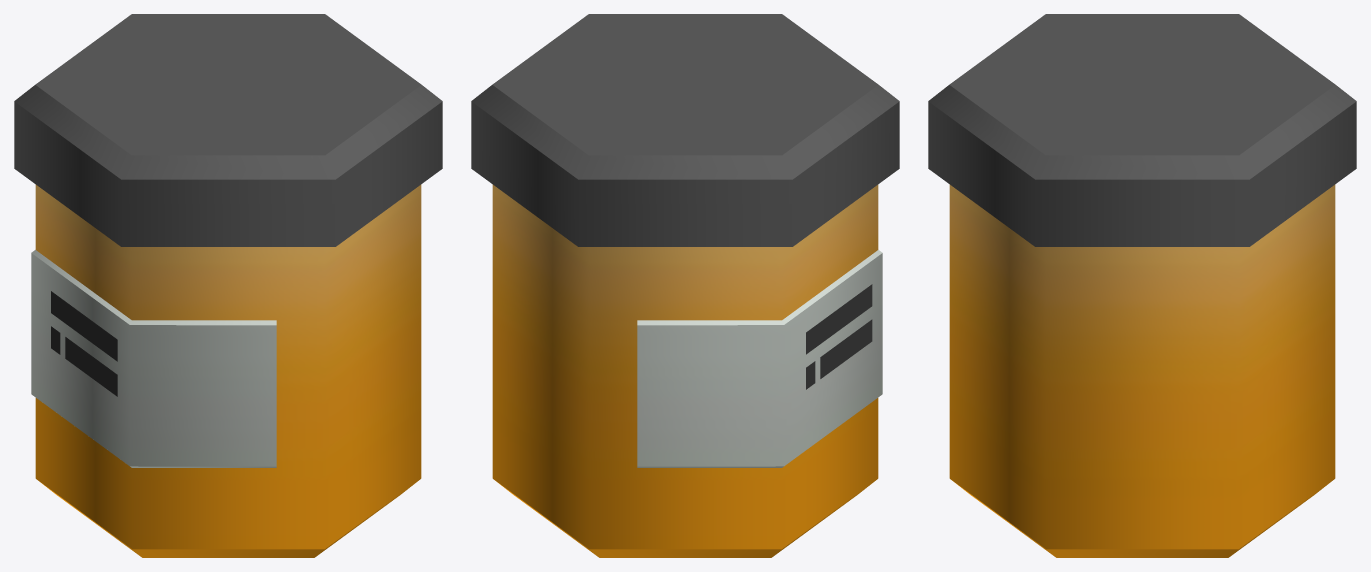
File: Jar_1_G.fbx
3 views of the same model, side by side, from view 1: azimuth 30°, elevation 25°; view 2: azimuth 150°, elevation 25°; view 3: azimuth 270°, elevation 25° (orthographic).
Visible parts, largest first — view 1: Jar_1_G; view 2: Jar_1_G; view 3: Jar_1_G.
Boxes of the visible parts, <box> form: Jar_1_G: <box>14,14,442,557</box>; Jar_1_G: <box>471,14,899,557</box>; Jar_1_G: <box>928,14,1356,557</box>.
Bounding box in the file's own units: 17.99 × 21.94 × 20.77.
